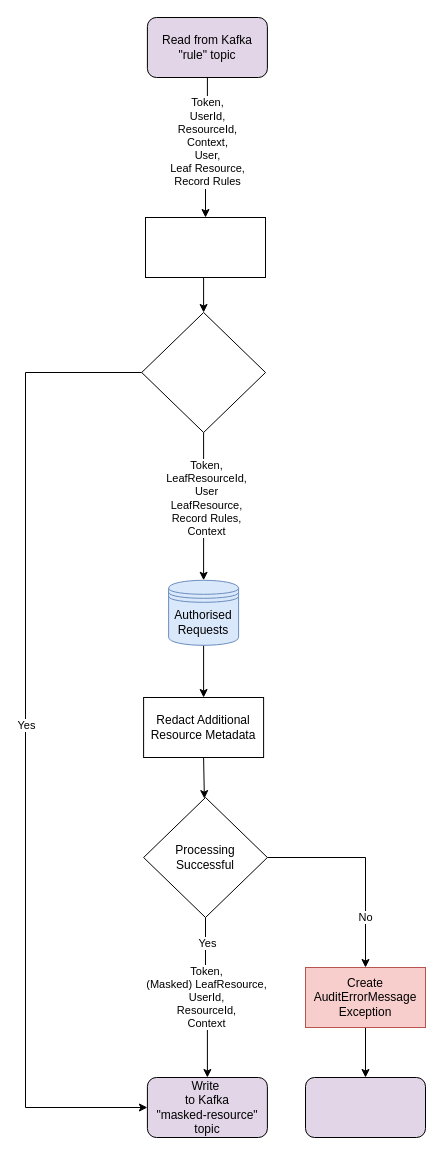
Image size: 443x1155. Some labels were removed from this diagram. The shapes that lost their labels are listed below. From the top down, each one's centre as x and y in pixels, then its label:
(205,247): Attribute Masking Service
(203,372): Is it a Stream Marker?
(365,1107): Write to Kafka "error" topic
